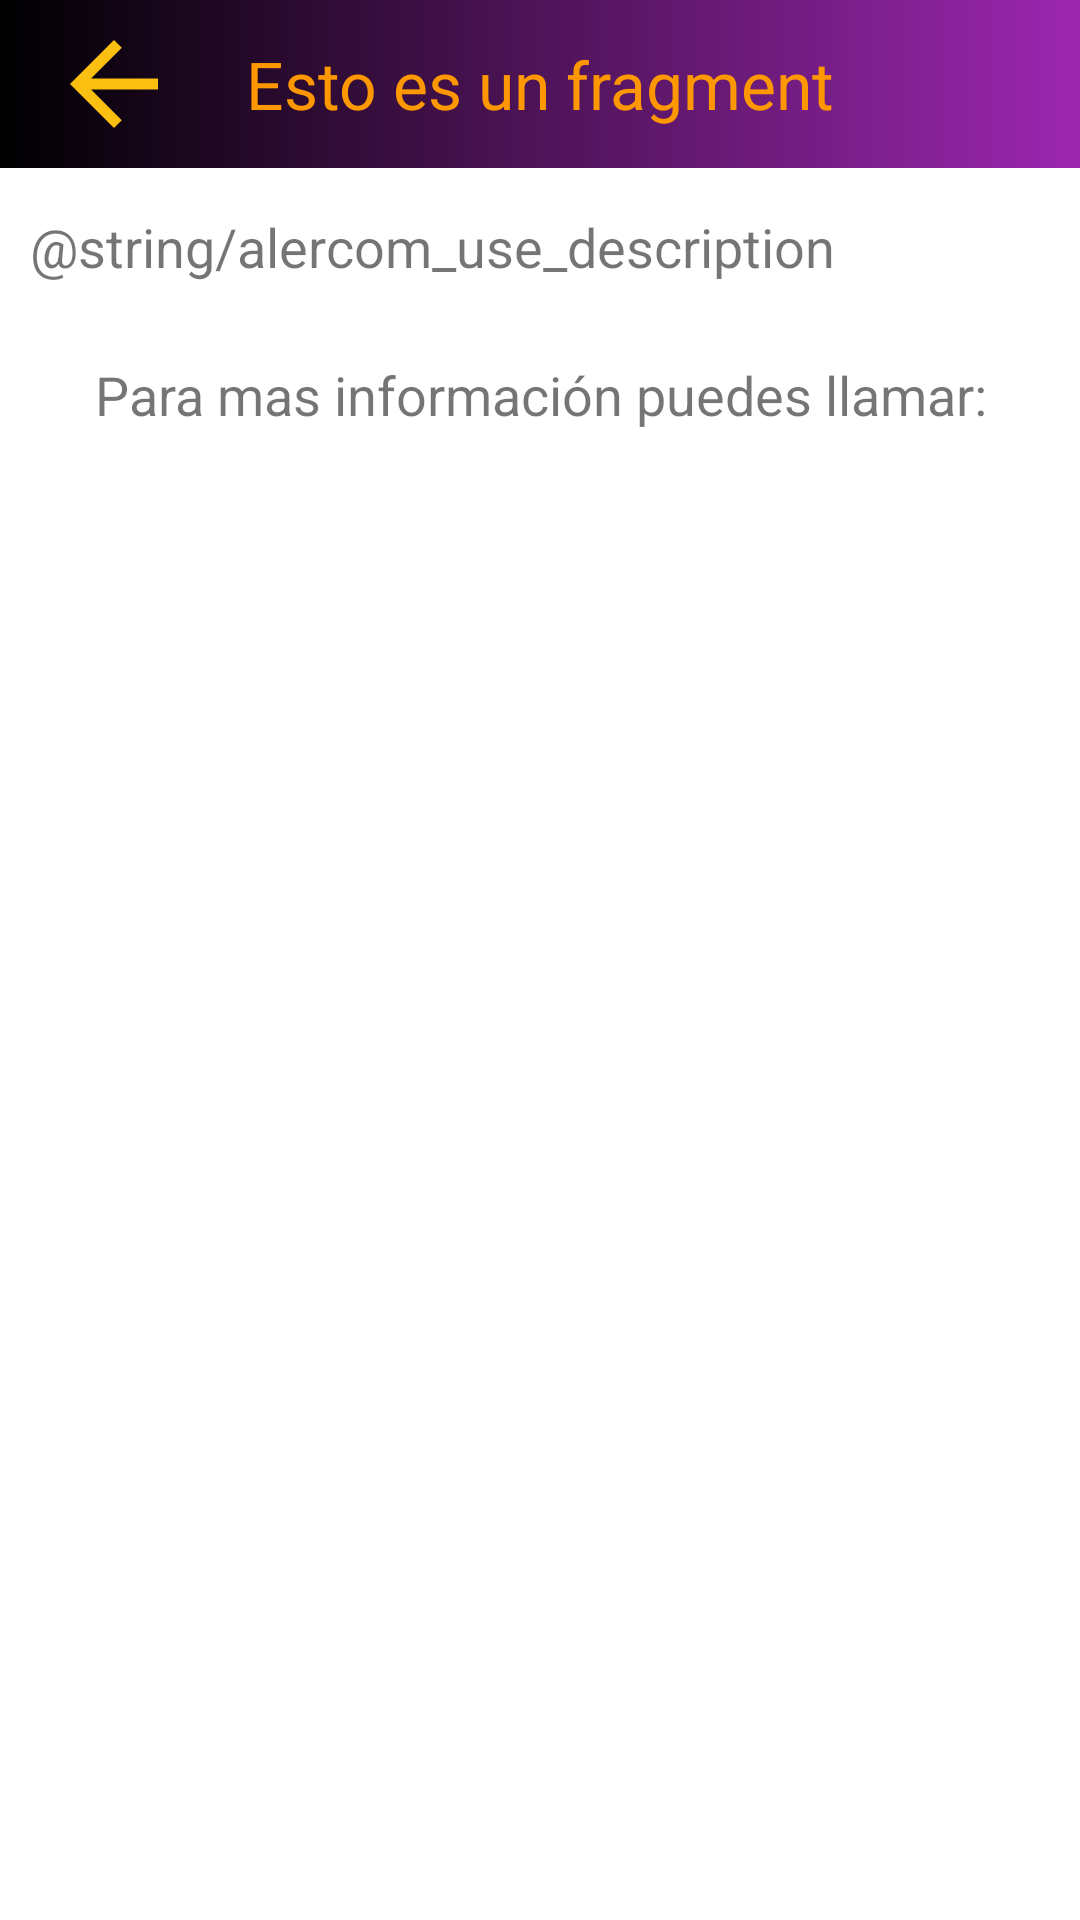

Screen size 1080px x 1920px. Icon name, then its center in pixels as (x=x, y=y):
arrow back: (x=103, y=84)
